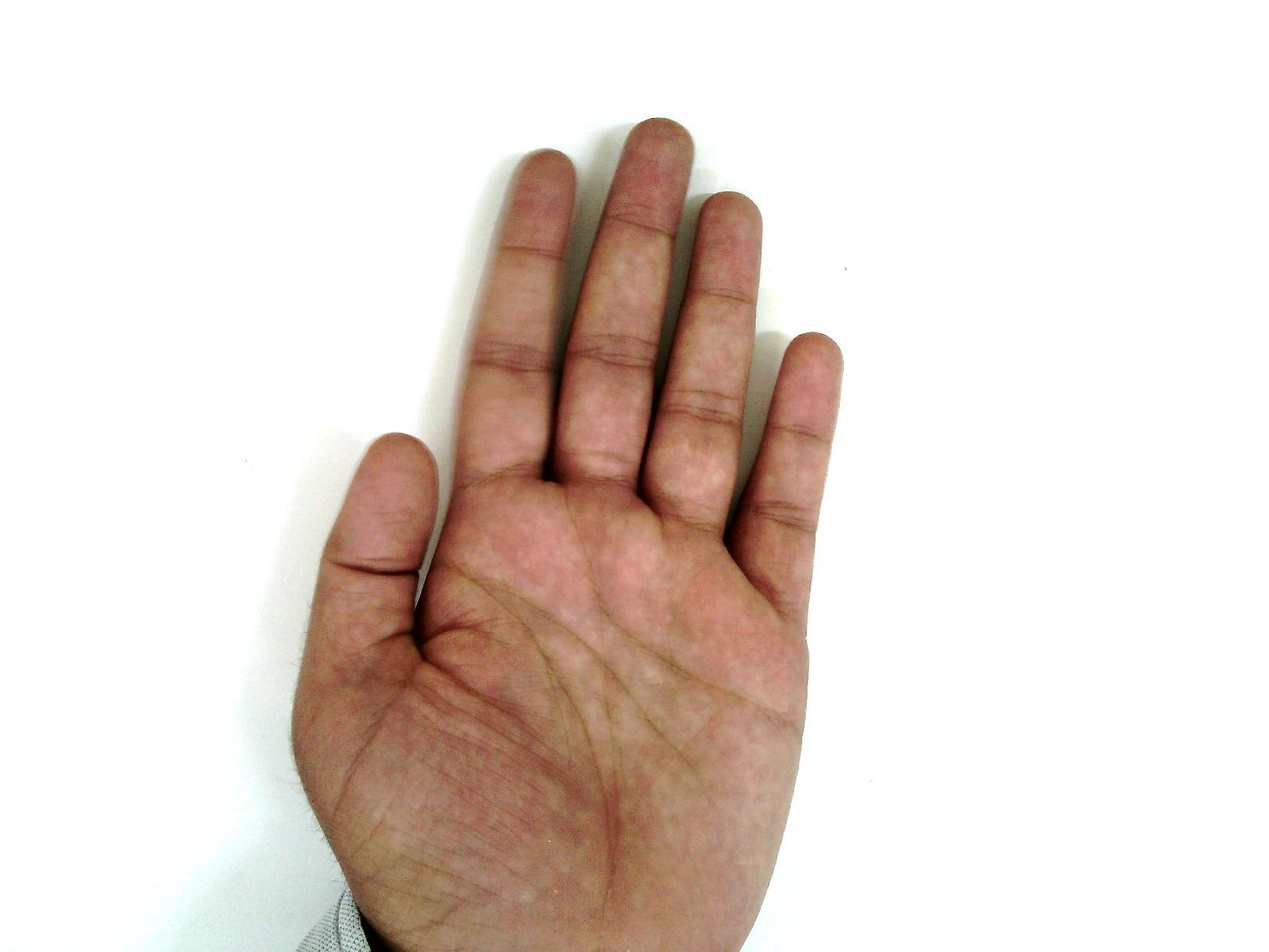open_palm: (288, 117, 848, 951)
